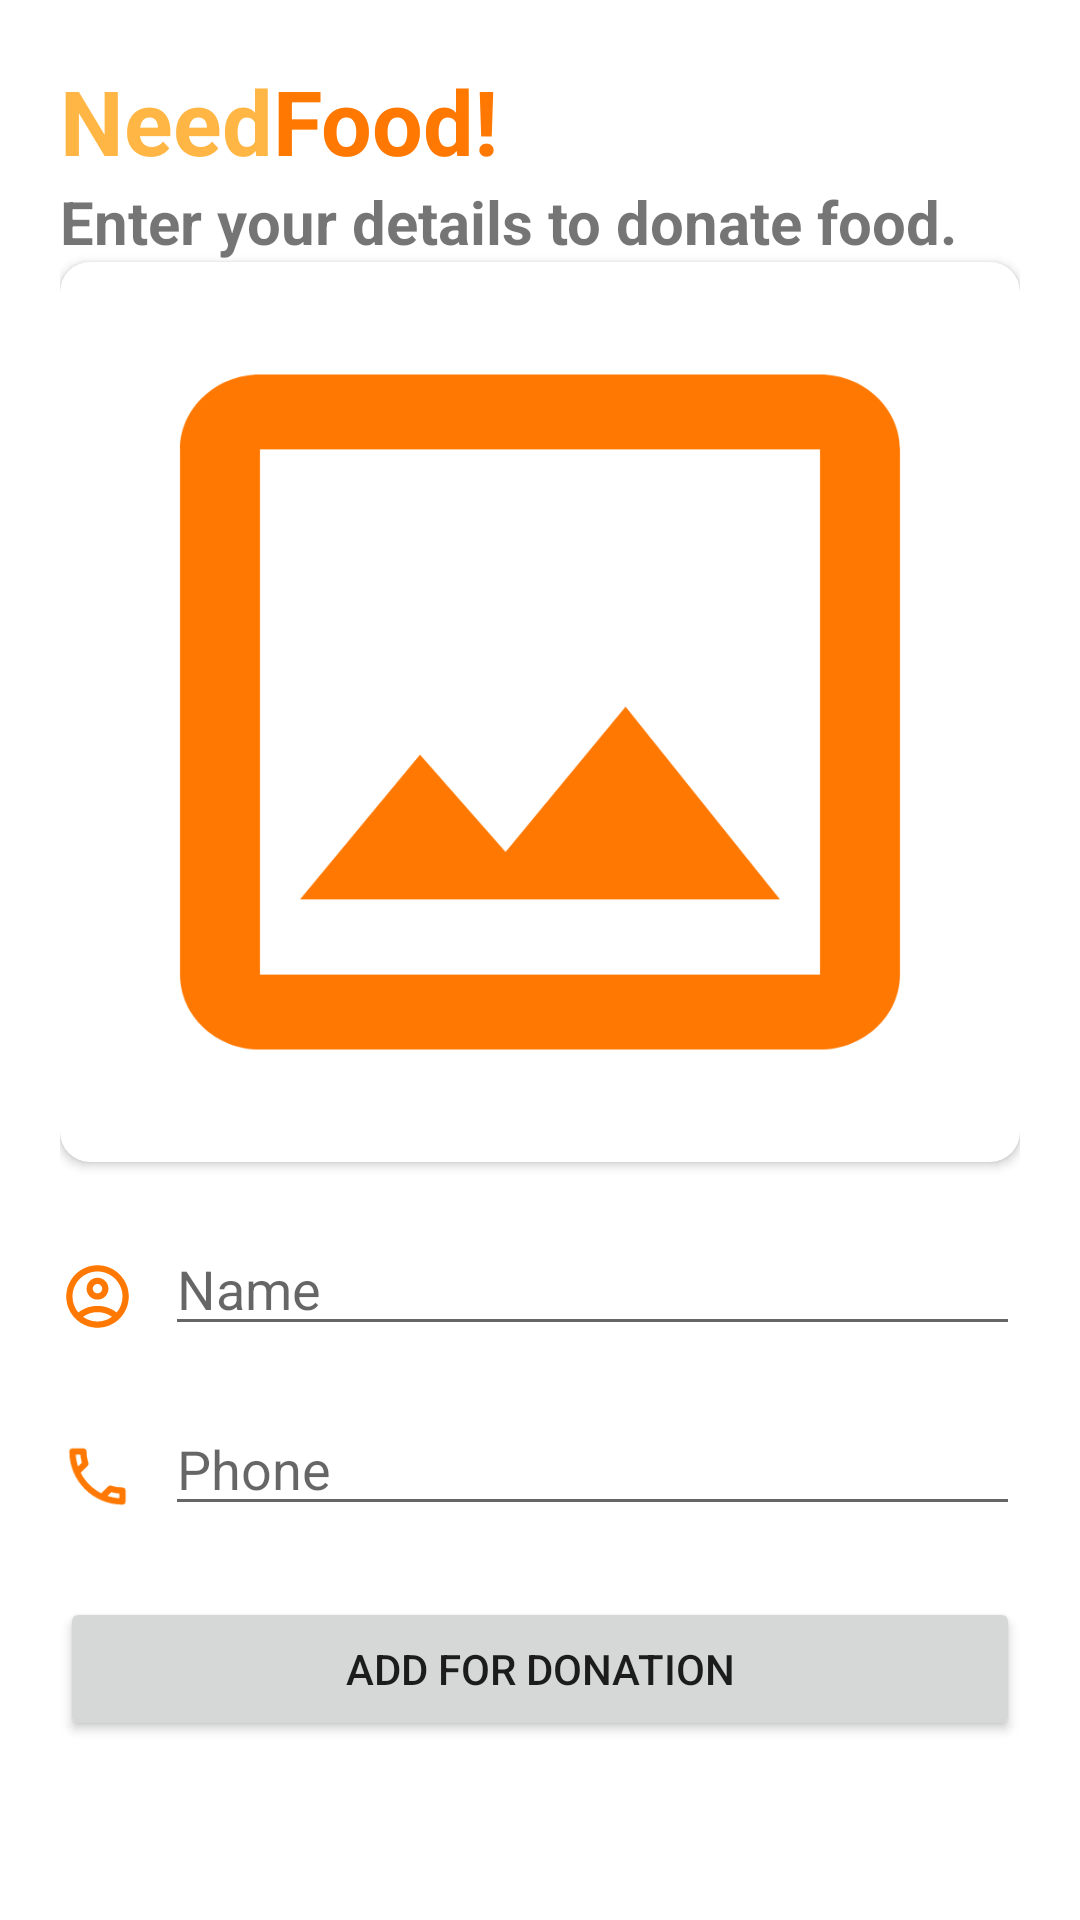

Named icons in this screenshot (1080*1920) and their bounding boxes, [x1=x1, y1=y1, x2=x2, y2=y2]:
account circle: [x1=66, y1=1265, x2=129, y2=1328]
